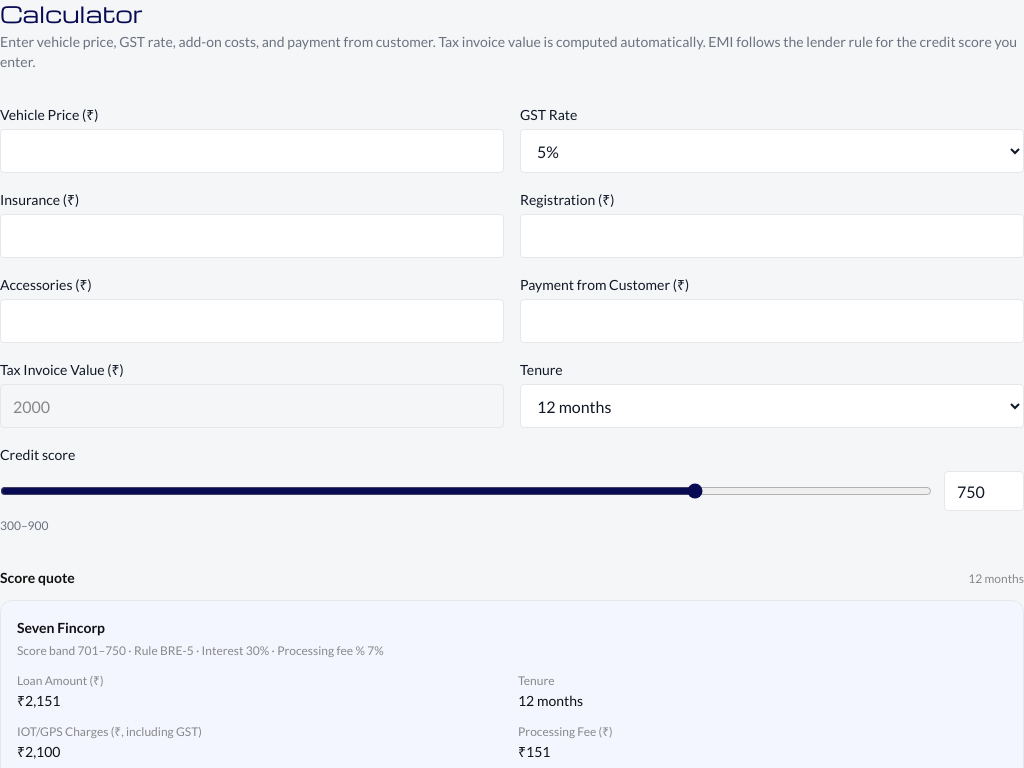
Test case: EmiRangeCalculator › shows the unavailable message when no band covers the score
Replace the text in the field with test id "emi-range-score-input" with "300" at [984, 491], box x1=944 y1=471 x2=1023 y2=511
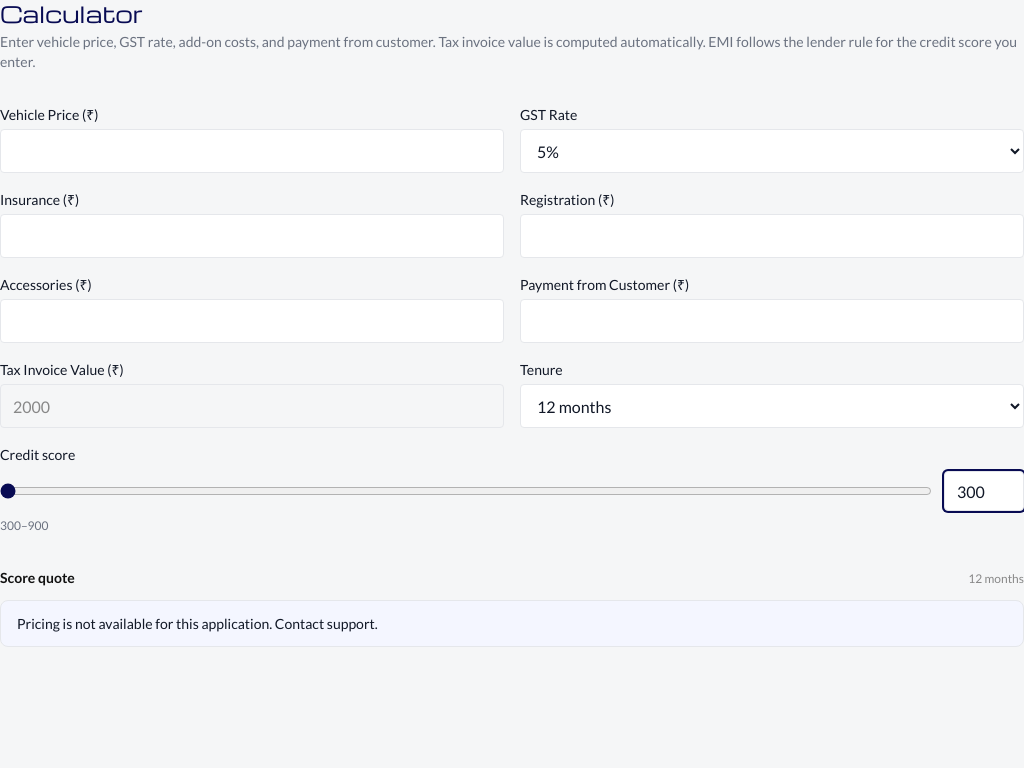
Check: the message with test id "emi-range-quote-message" reads "Pricing is not available for this application. Contact support.", box x1=17 y1=615 x2=378 y2=632
